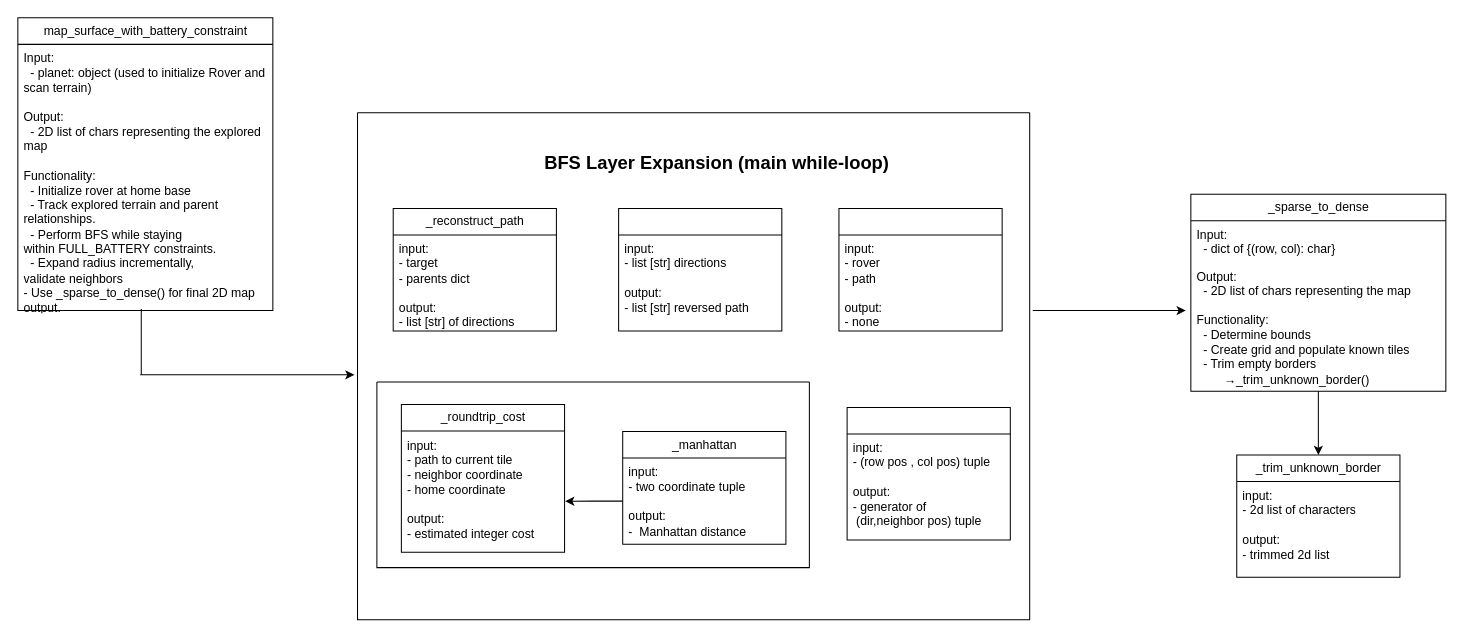
The diagram is 1464 pixels wide and 638 high, and some of its shapes have lost their labels. Here are the shapes that lost their labels. From the top down, the box of each, then its label:
(618, 208, 782, 331): _reverse_path
(838, 208, 1002, 331): _travel
(846, 406, 1010, 540): _neighbours
